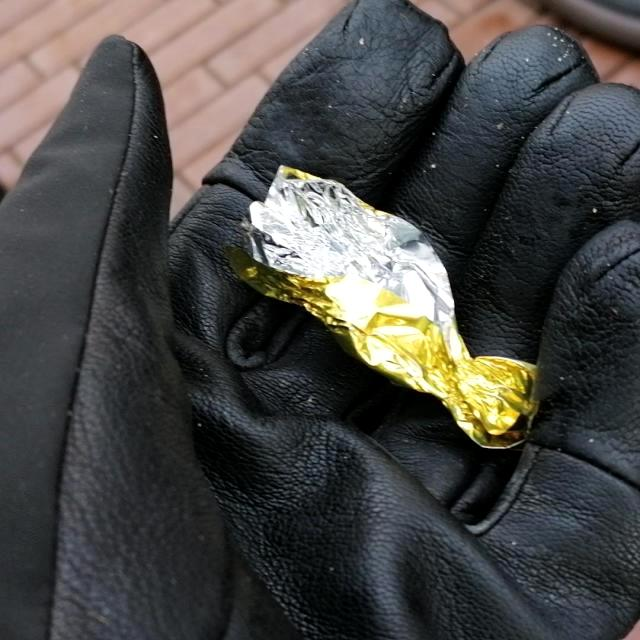Plastic: (220, 159, 540, 451)
